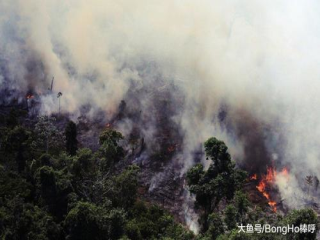fire: (250, 166, 296, 210)
smoke: (2, 8, 313, 161)
